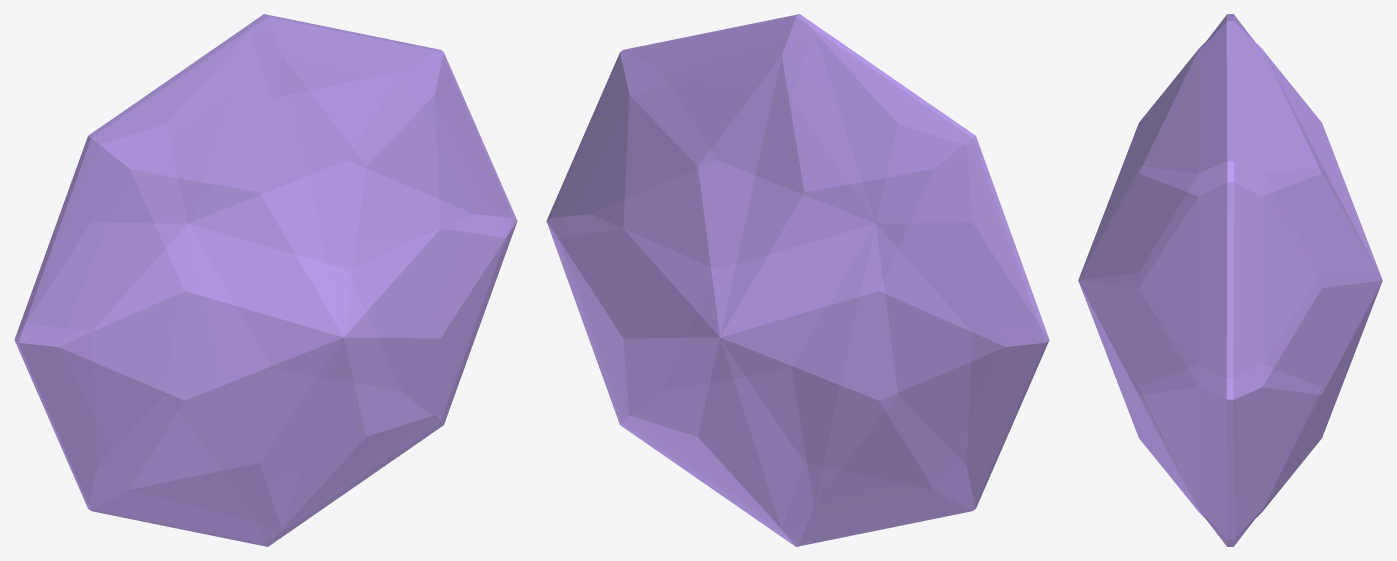
File: rose ametiste.glb
The picture shows the model from 3 angles, left to right: view 1: azimuth 30°, elevation 25°; view 2: azimuth 150°, elevation 25°; view 3: azimuth 270°, elevation 25°; orthographic projection. The views are drawn at different scales.
Visible parts, largest first — view 1: Cross Rose; view 2: Cross Rose; view 3: Cross Rose.
Boxes of the visible parts, x1,y1,x2,y2 form: Cross Rose: (14,14,517,546); Cross Rose: (546,14,1049,546); Cross Rose: (1078,14,1382,546).
Bounding box in the file's own units: 1.74 × 1.76 × 0.9396.
